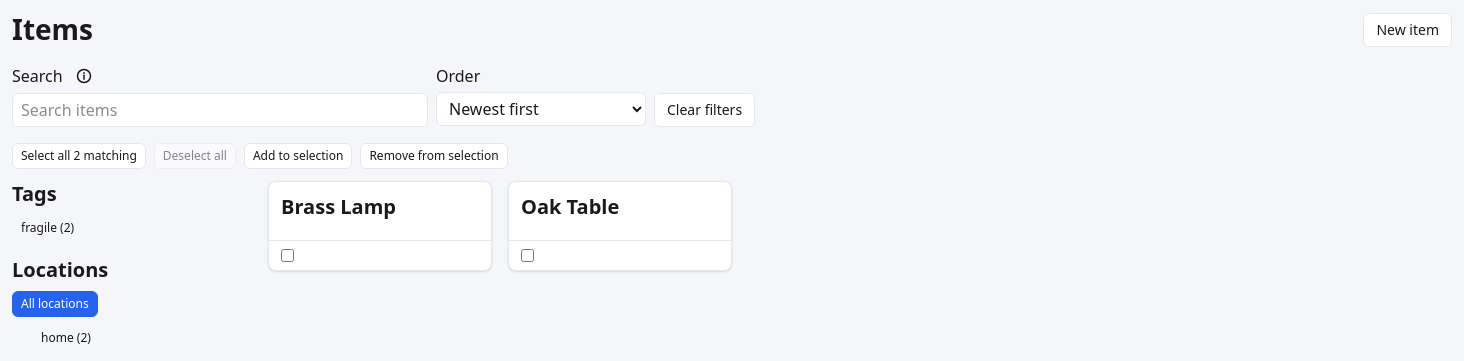
Test: selecting items on the catalog › selects a card and counts it, and deselects it again
Click the checkbox named "Select Brass Lamp": (288, 256) [281,249,294,262]
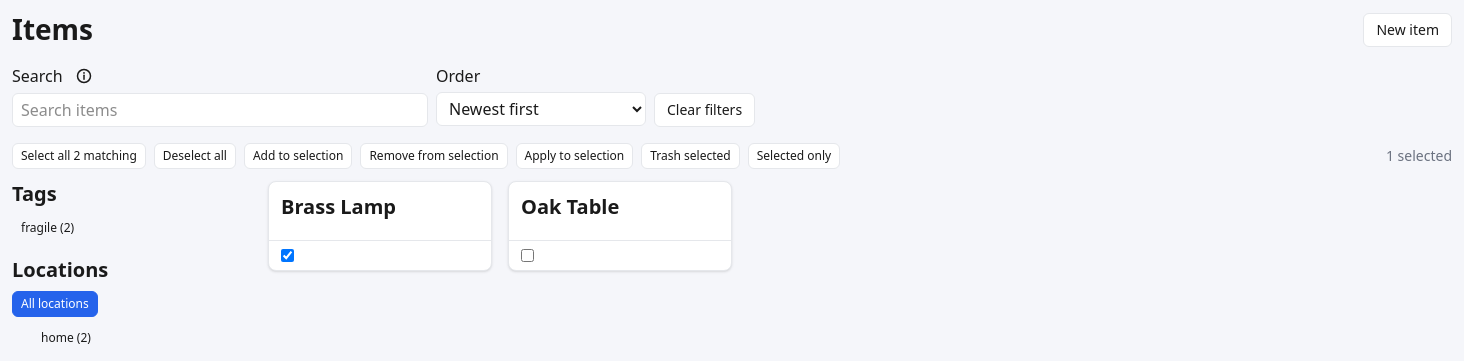
Now the text "1 selected" is shown, box [1386,146,1452,166]
Click the checkbox named "Select Brass Lamp": (288, 256) [281,249,294,262]
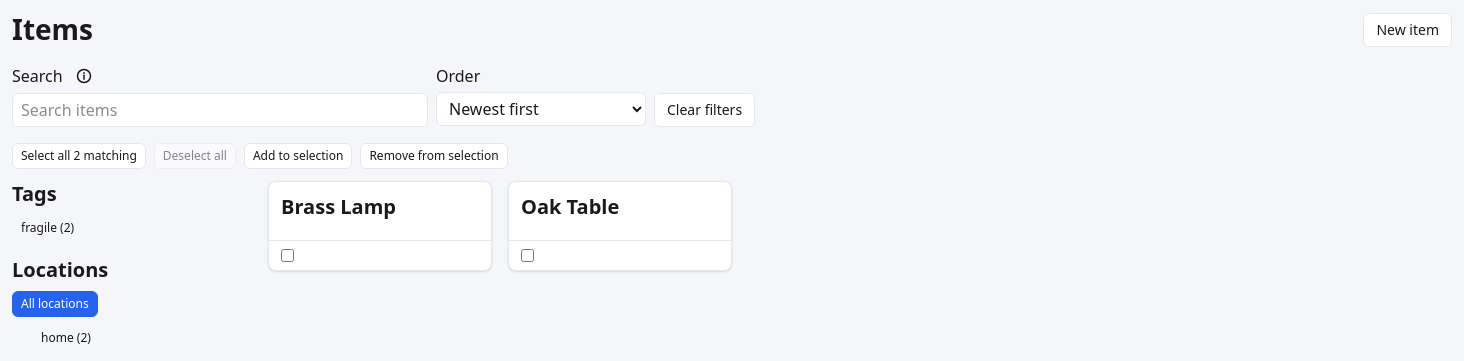
Now the text "1 selected" is gone
